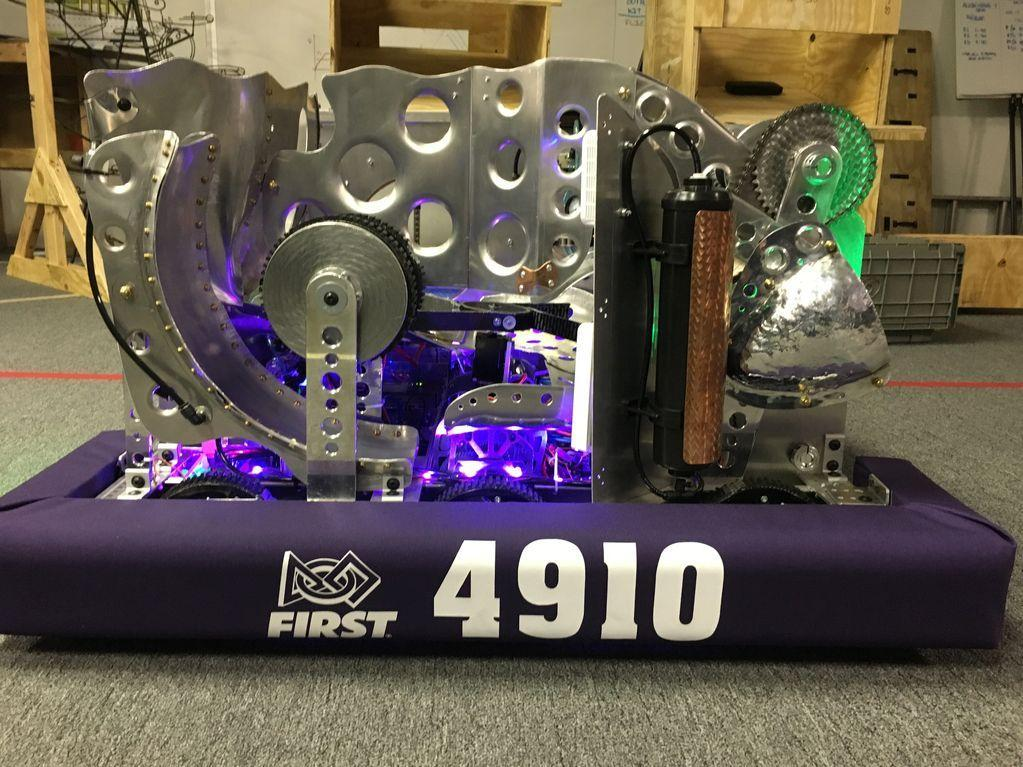robot: (0, 49, 1019, 666)
